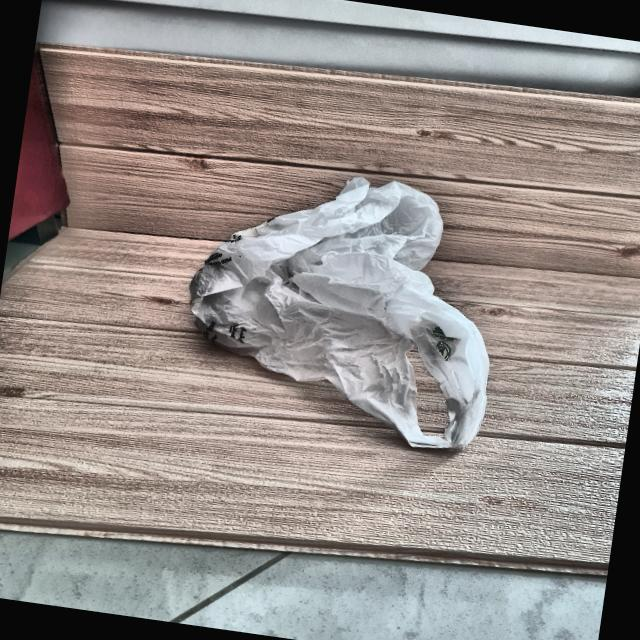plastic bag: (160, 142, 540, 477)
